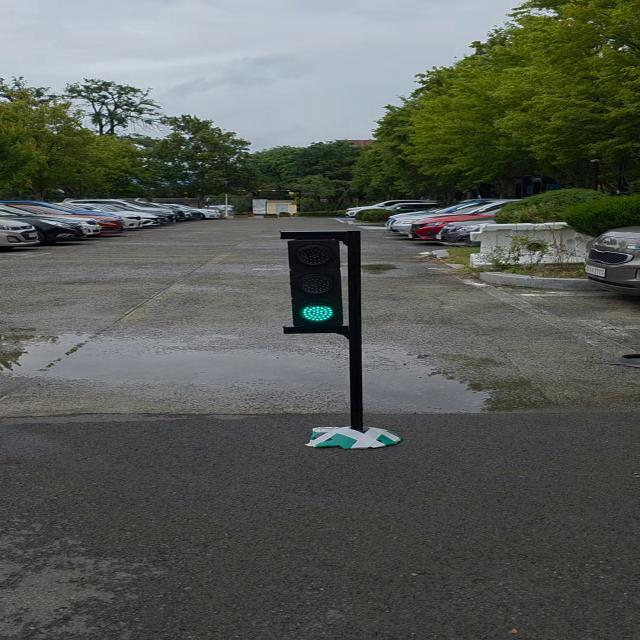green: (290, 233, 351, 334)
